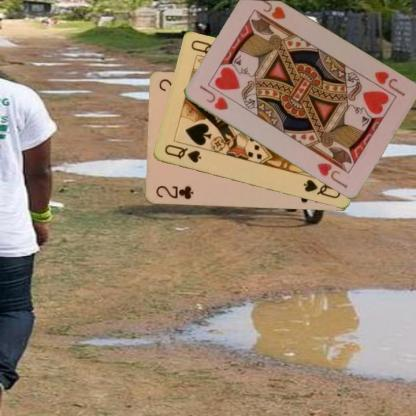2c: (153, 183, 195, 201)
Jh: (364, 69, 406, 99), (196, 82, 229, 112)
Qs: (161, 142, 202, 165)
